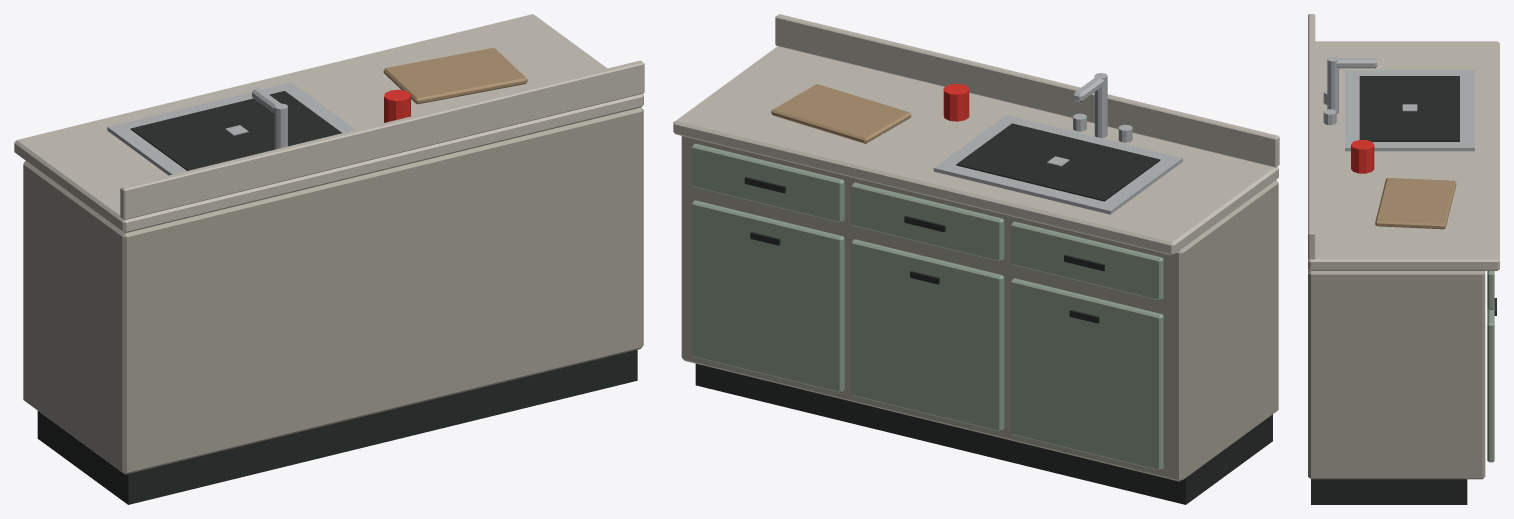
File: counter.glb
3 renders of one model, left to right at view 1: azimuth 30°, elevation 25°; view 2: azimuth 150°, elevation 25°; view 3: azimuth 270°, elevation 25°, orthographic. The views are drawn at different scales.
Visible parts, largest first — view 1: counter; view 2: counter; view 3: counter.
Part boxes in pixels (bbox=[...]): counter: bbox=[14, 14, 644, 504]; counter: bbox=[673, 14, 1279, 504]; counter: bbox=[1308, 14, 1499, 504].
Bounding box in the file's own units: 1.76 × 1.12 × 0.65.
